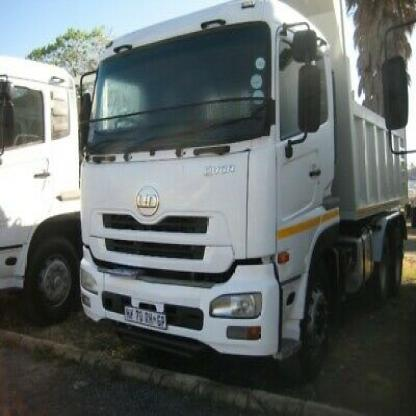dump_truck: (70, 1, 415, 392)
